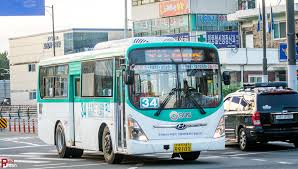bnum: (140, 97, 158, 108)
